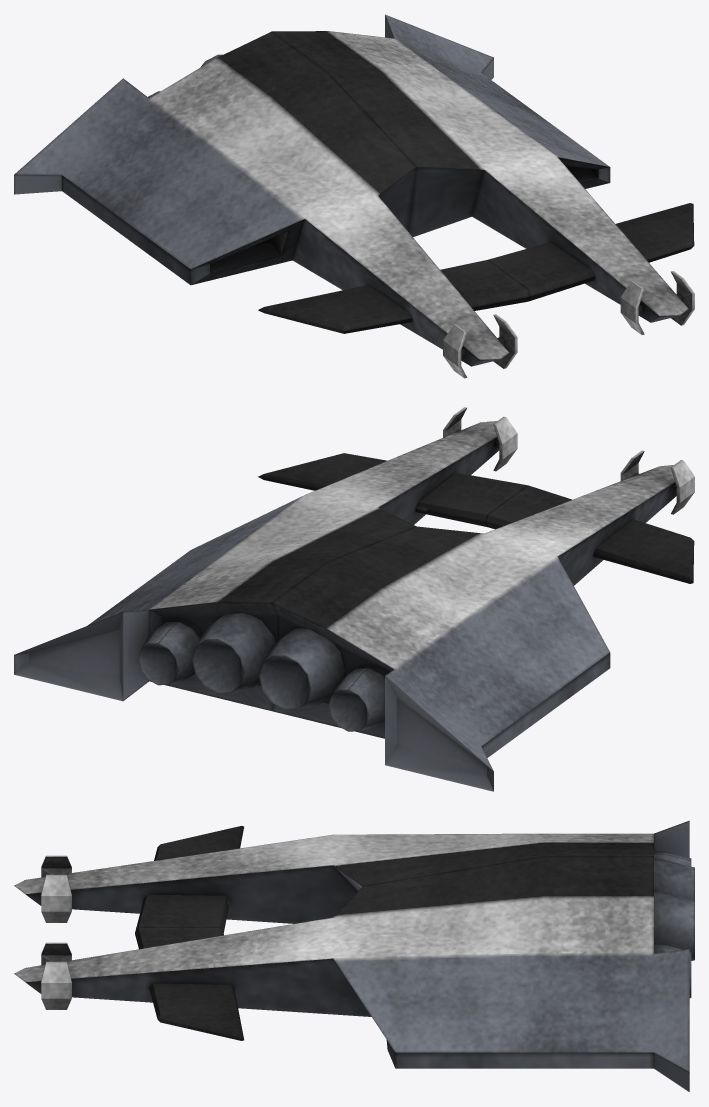
The model's file is Repubblica_4.fbx.
The picture shows the model from 3 angles, top to bottom: view 1: azimuth 30°, elevation 25°; view 2: azimuth 150°, elevation 25°; view 3: azimuth 270°, elevation 25°; orthographic projection.
Visible parts, largest first — view 1: Texture, Colore1; view 2: Texture, Colore1; view 3: Texture, Colore1.
Part boxes in pixels (bbox=[...]): Texture: bbox=[14, 14, 694, 366]; Colore1: bbox=[149, 31, 694, 378]; Texture: bbox=[14, 437, 694, 791]; Colore1: bbox=[150, 407, 694, 669]; Texture: bbox=[26, 820, 694, 1091]; Colore1: bbox=[14, 833, 653, 1009].
Size of the model in its own units: 6.69 by 1.57 by 8.18.
2 materials, 2 textured.
